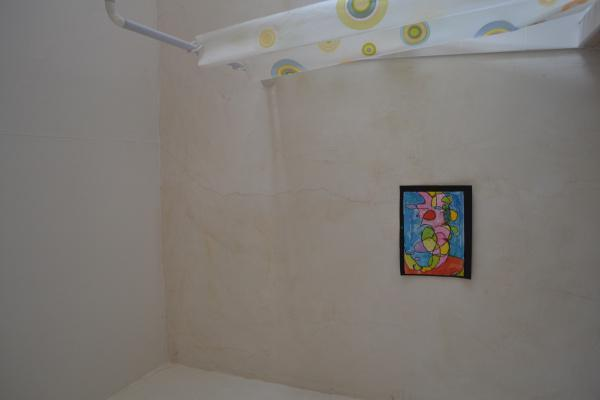crack: (178, 161, 369, 202)
